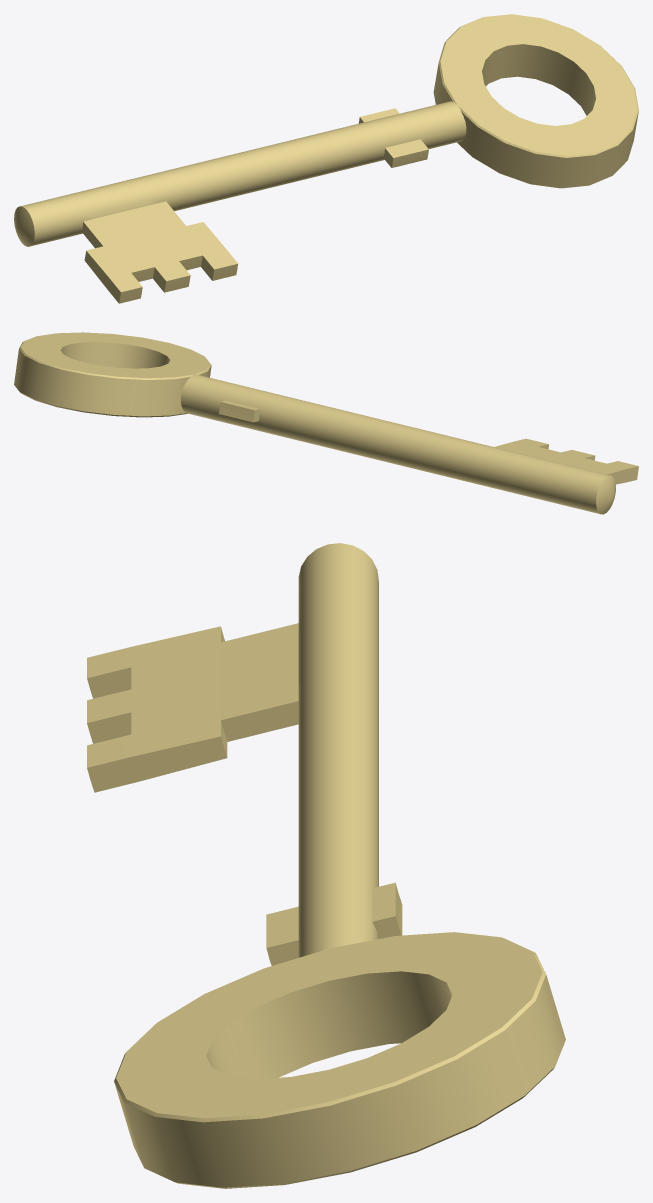
Rendered from key.fbx.
The picture shows the model from 3 angles, top to bottom: view 1: azimuth 30°, elevation 25°; view 2: azimuth 150°, elevation 25°; view 3: azimuth 270°, elevation 25°; orthographic projection. The views are drawn at different scales.
Parts seen in each view (by area): view 1: polySurface1; view 2: polySurface1; view 3: polySurface1.
Part boxes in pixels (x1,y1,x2,y2): polySurface1: (14,14,638,303); polySurface1: (14,332,638,514); polySurface1: (87,543,565,1188).
Bounding box in the file's own units: 15.41 × 2.24 × 5.51.
Materials: 1 (1 with a texture image).
